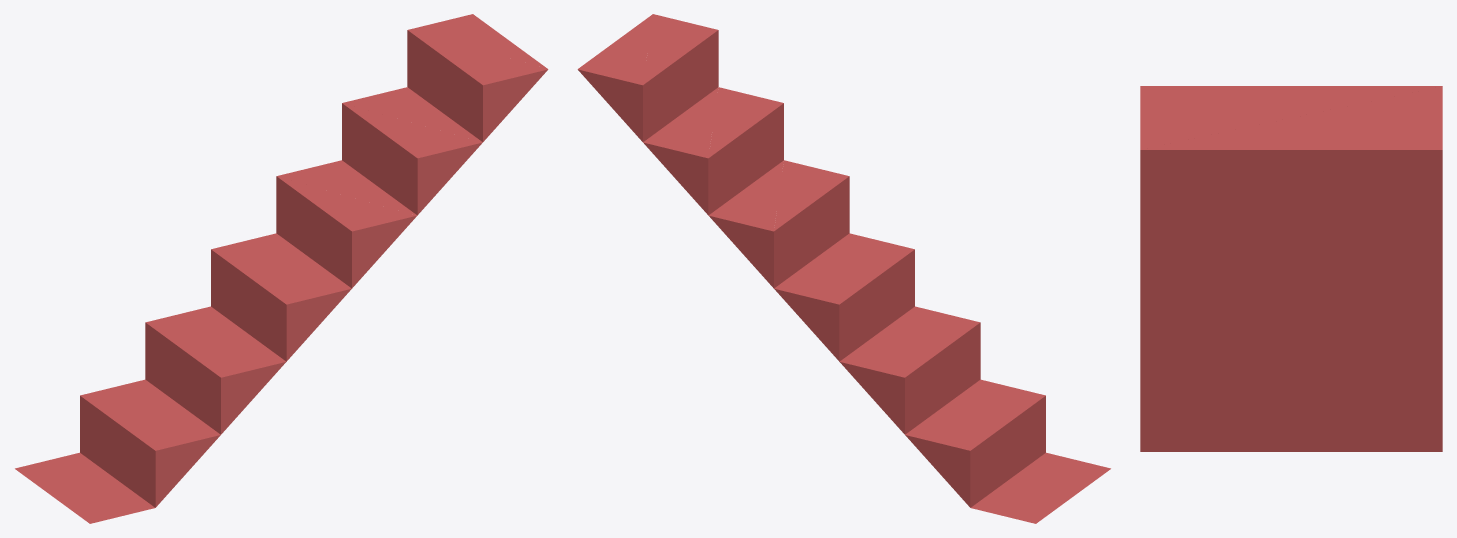
Rendered from km3_dan0.glb.
The picture shows the model from 3 angles, left to right: view 1: azimuth 30°, elevation 25°; view 2: azimuth 150°, elevation 25°; view 3: azimuth 270°, elevation 25°; orthographic projection. The views are drawn at different scales.
Parts seen in each view (by area): view 1: km3_dan0_col; view 2: km3_dan0_col; view 3: km3_dan0_col.
Part boxes in pixels (x1,y1,x2,y2): km3_dan0_col: [15, 14, 548, 523]; km3_dan0_col: [577, 14, 1110, 523]; km3_dan0_col: [1140, 86, 1442, 451].
Bounding box in the file's own units: 2.1 × 1.5 × 0.6.
